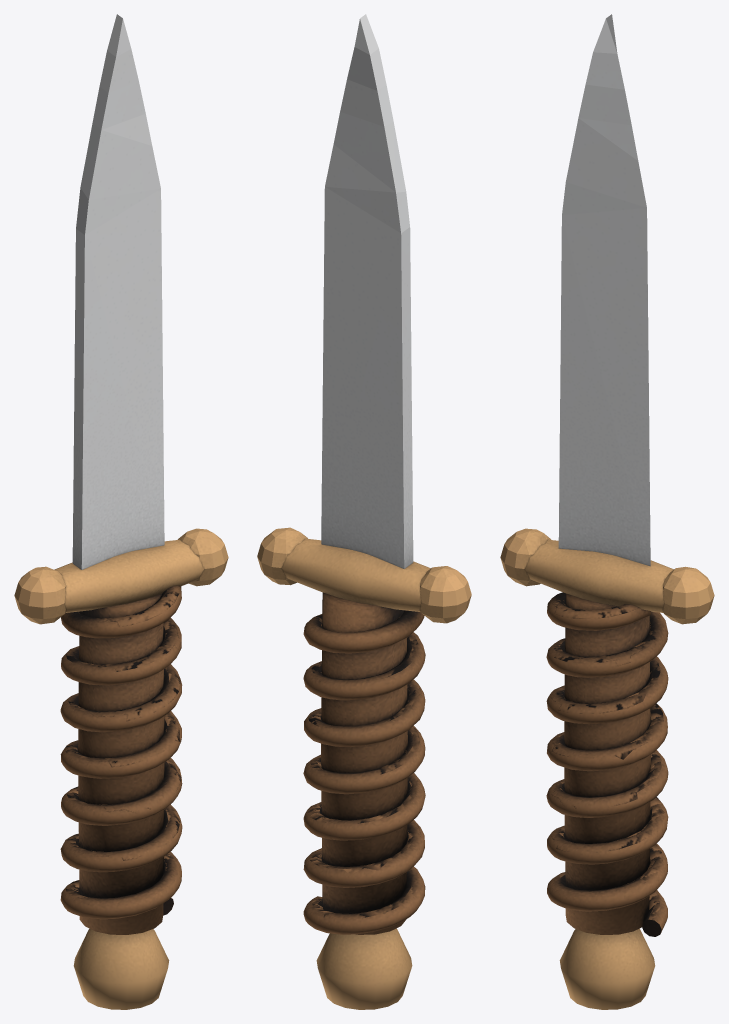
The model's file is arma_faca_refinada.glb.
The picture shows the model from 3 angles, left to right: view 1: azimuth 30°, elevation 25°; view 2: azimuth 150°, elevation 25°; view 3: azimuth 330°, elevation 25°; orthographic projection.
Visible parts, largest first — view 1: arma_faca_refinada; view 2: arma_faca_refinada; view 3: arma_faca_refinada.
Part boxes in pixels (x1,y1,x2,y2): arma_faca_refinada: [14, 14, 228, 1009]; arma_faca_refinada: [257, 14, 471, 1009]; arma_faca_refinada: [500, 14, 714, 1009].
Size of the model in its own units: 0.0792 by 0.3612 by 0.0406.
1 material, 1 textured.
